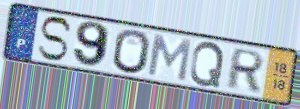9: (72, 20, 114, 71)
M: (145, 33, 194, 84)
O: (112, 28, 152, 76)
Q: (188, 41, 227, 90)
R: (223, 46, 267, 93)
S: (35, 15, 74, 63)
